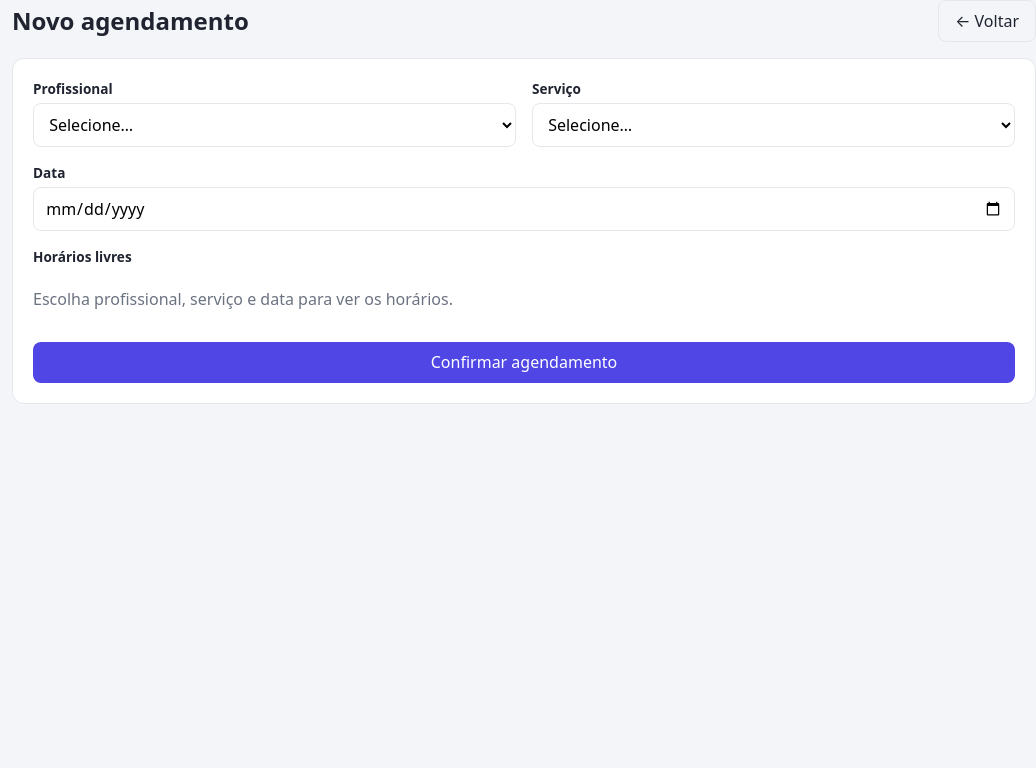
it: NewAppointmentPage › shows the double-booking error from the API (409) nicely
Select "Ana Souza · Cabeleireira" in the dropdown labelled "Profissional" at (274, 125), box [33, 103, 516, 147]
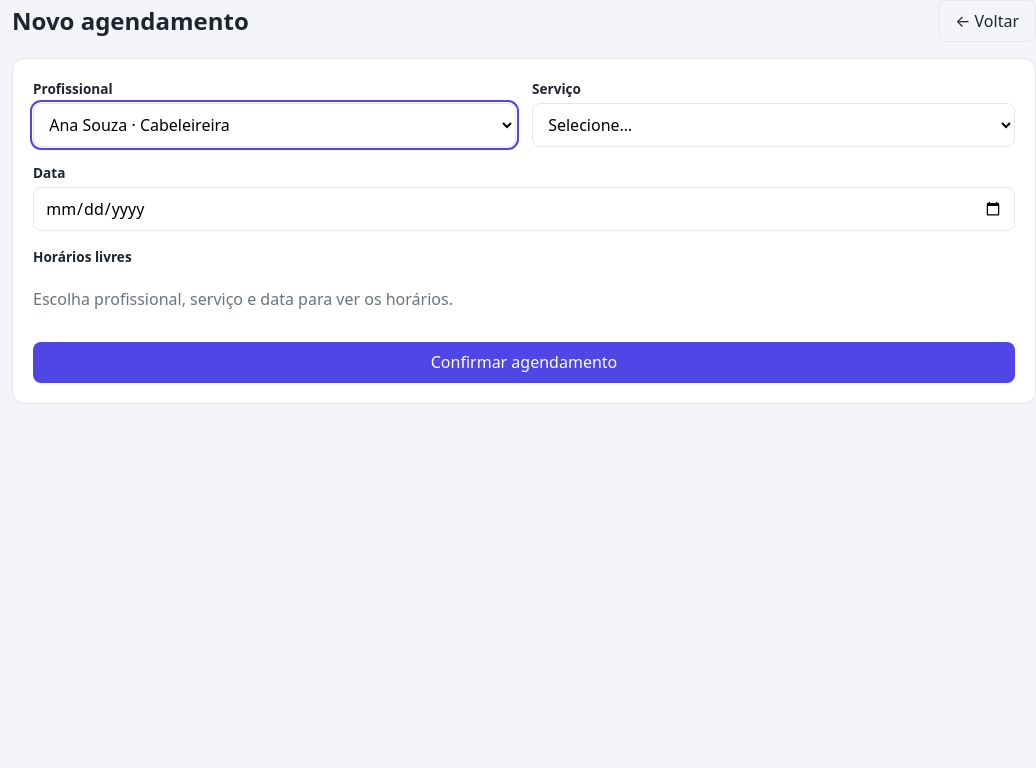
Select "Corte feminino · 60 min · R$ 80,00" in the dropdown labelled "Serviço" at (774, 125), box [532, 103, 1015, 147]
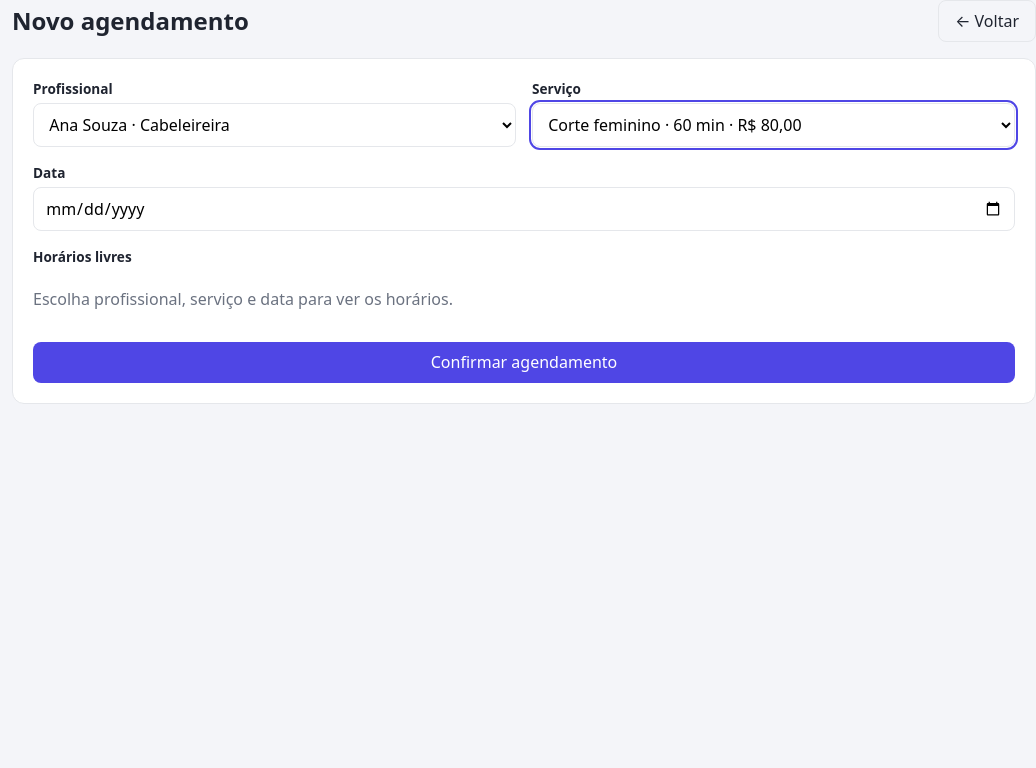
Type "2030-01-07" into the date field labelled "Data" at (524, 209), box [33, 187, 1015, 231]
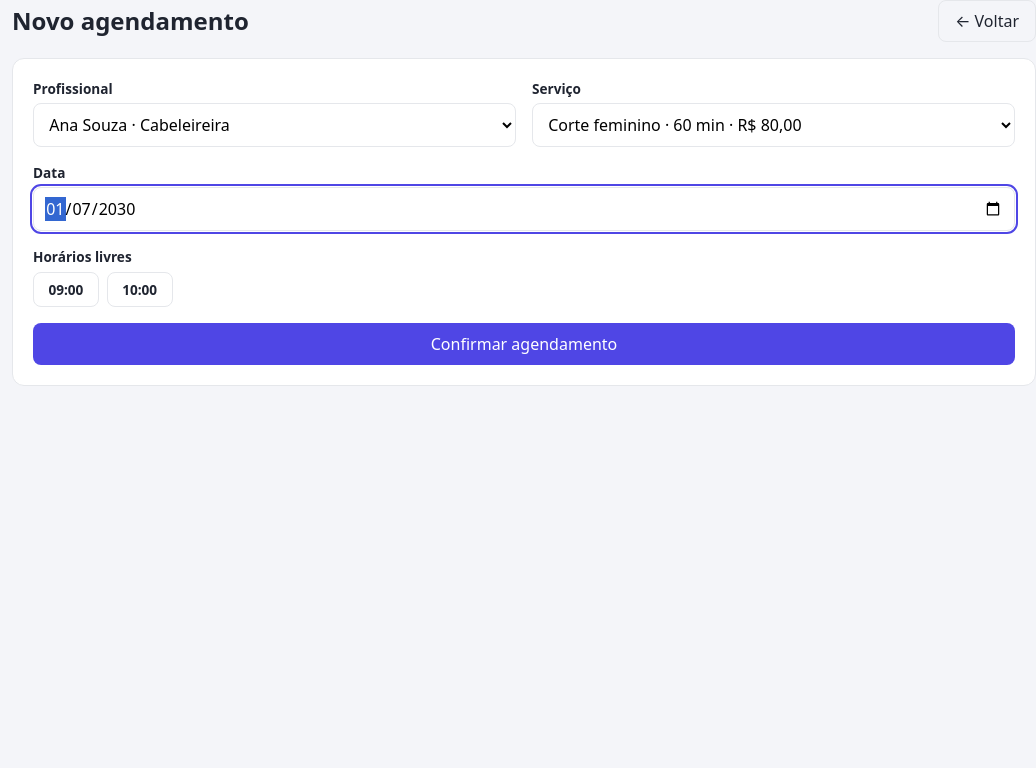
Click the radio button labelled "09:00" at (66, 289), box [33, 272, 99, 307]
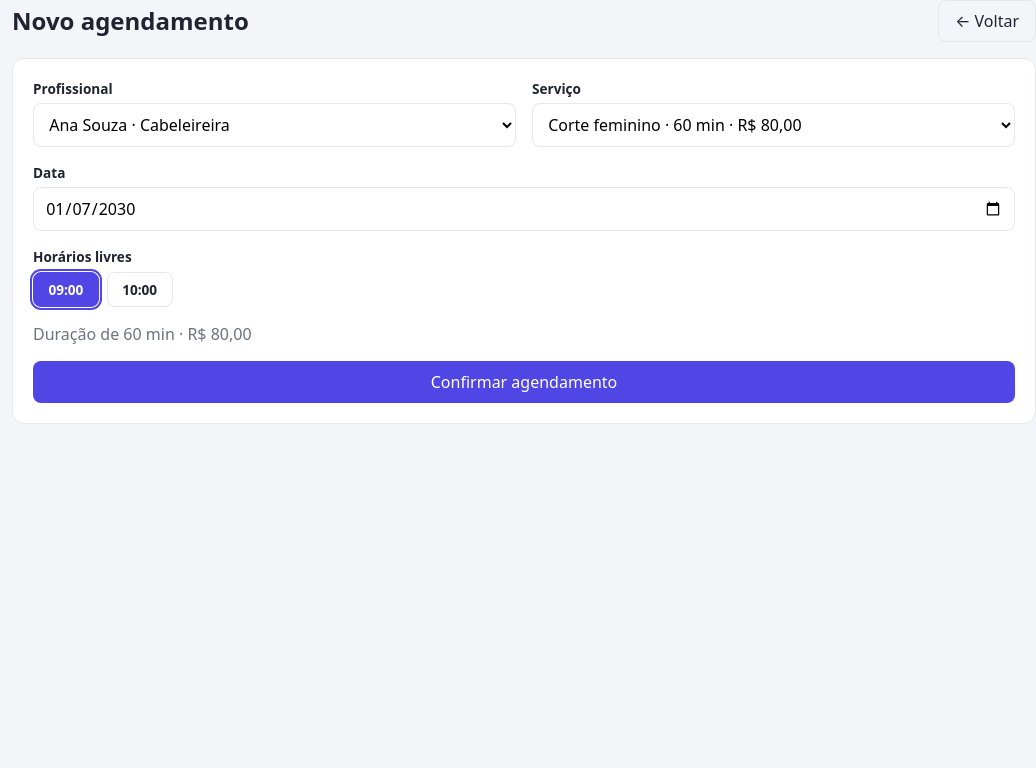
Click the button "Confirmar agendamento" at (524, 382), box [33, 361, 1015, 402]
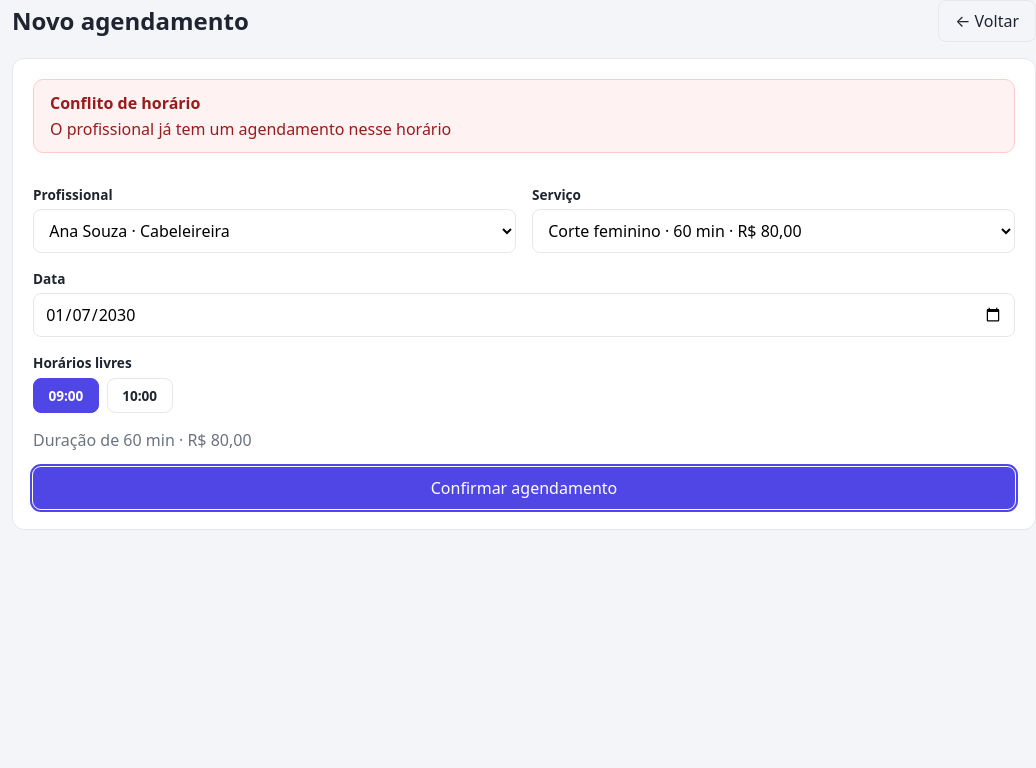
Expected: the message shows "Conflito de horário", [50, 92, 200, 114]
Expected: the message shows "O profissional já tem um agendamento nesse horário", [50, 118, 451, 140]
